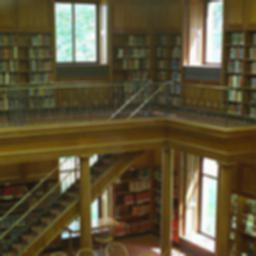Escaleras: (4, 80, 174, 254)
